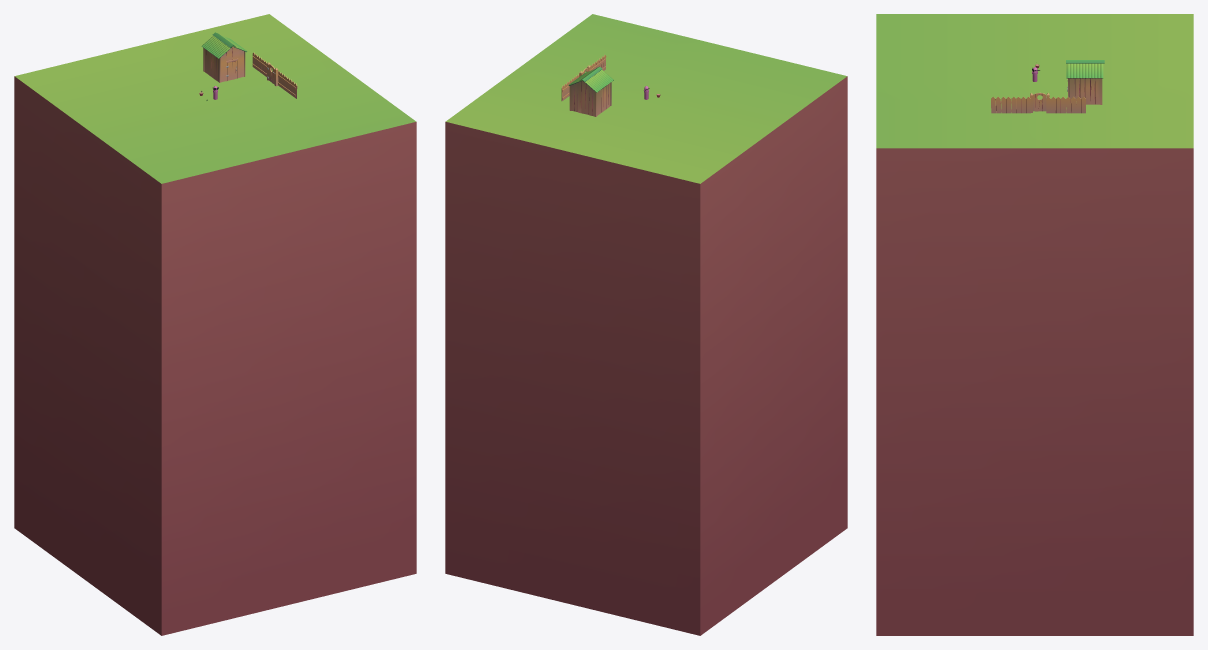
File: 32bitdemodisk.glb
The picture shows the model from 3 angles, left to right: view 1: azimuth 30°, elevation 25°; view 2: azimuth 150°, elevation 25°; view 3: azimuth 270°, elevation 25°; orthographic projection. The views are drawn at different scales.
Visible parts, largest first — view 1: GROUND, SHACK, FENCE; view 2: GROUND, SHACK; view 3: GROUND, SHACK, FENCE.
Boxes of the visible parts, <box> form: GROUND: <box>14,14,416,635</box>; SHACK: <box>201,32,246,82</box>; FENCE: <box>252,52,297,98</box>; GROUND: <box>445,14,847,635</box>; SHACK: <box>568,66,613,116</box>; GROUND: <box>876,14,1193,635</box>; SHACK: <box>1066,60,1104,104</box>; FENCE: <box>991,93,1085,113</box>.
Size of the model in its own units: 78.67 by 144 by 78.67.
Materials: 1 (1 with a texture image).
